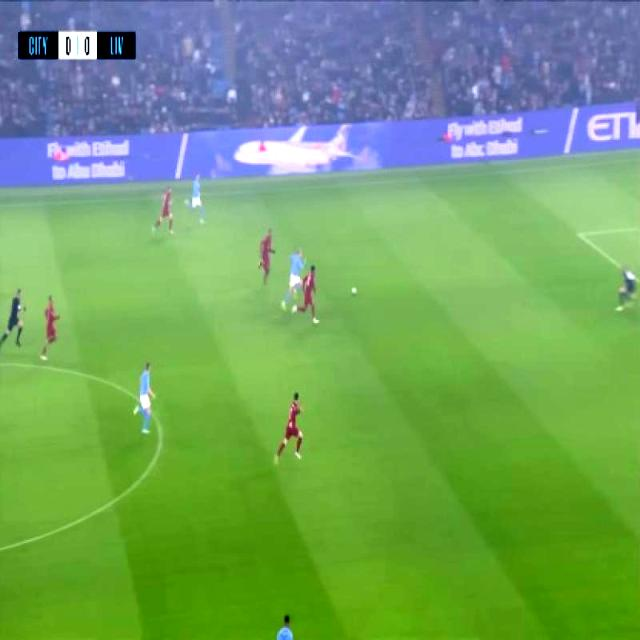bigarea_top_inner: (563, 215, 592, 252)
